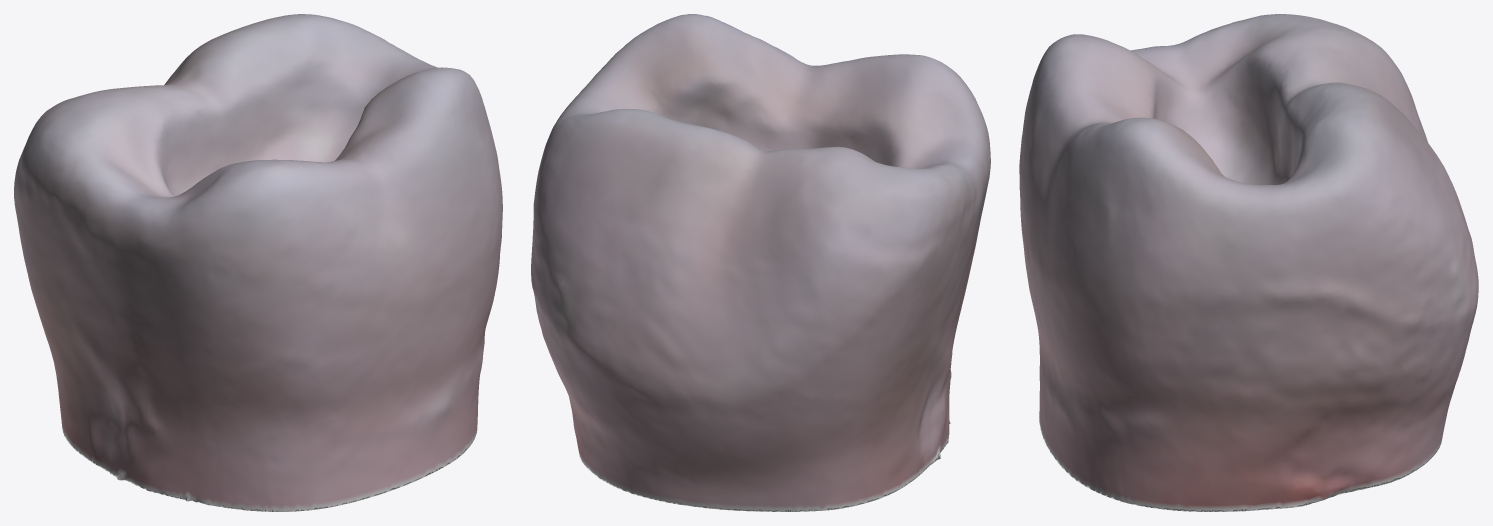
The model's file is PC Clase I - Corte Oclusal.glb.
3 views of the same model, side by side, from view 1: azimuth 30°, elevation 25°; view 2: azimuth 150°, elevation 25°; view 3: azimuth 270°, elevation 25° (orthographic). The views are drawn at different scales.
Visible parts, largest first — view 1: Clase I - Corte Oclusal; view 2: Clase I - Corte Oclusal; view 3: Clase I - Corte Oclusal.
Boxes of the visible parts, left/top/right/bottom form: Clase I - Corte Oclusal: left=14, top=14, right=502, bottom=511; Clase I - Corte Oclusal: left=531, top=14, right=990, bottom=511; Clase I - Corte Oclusal: left=1019, top=14, right=1478, bottom=511.
Bounding box in the file's own units: 11.23 × 9.43 × 10.78.
